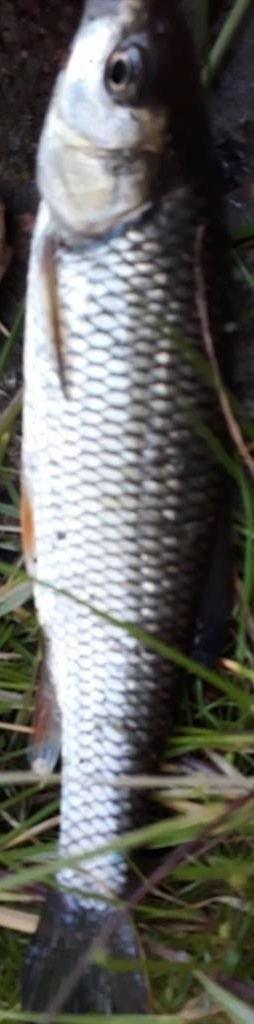Leuciscus cephalus: (20, 1, 234, 1016)
